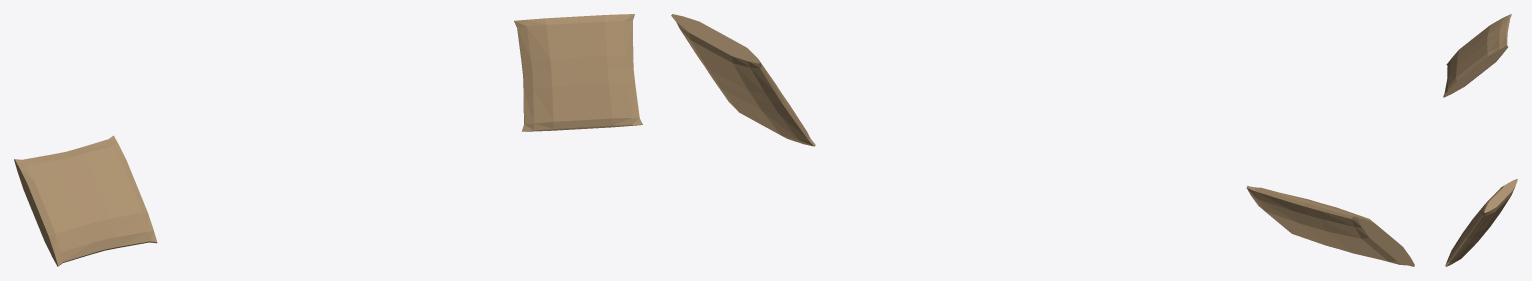
File: sofa_2.obj
3 renders of one model, left to right at view 1: azimuth 30°, elevation 25°; view 2: azimuth 150°, elevation 25°; view 3: azimuth 270°, elevation 25°, orthographic. The views are drawn at different scales.
Size of the model in its own units: 5.04 by 0.7354 by 0.7675.
